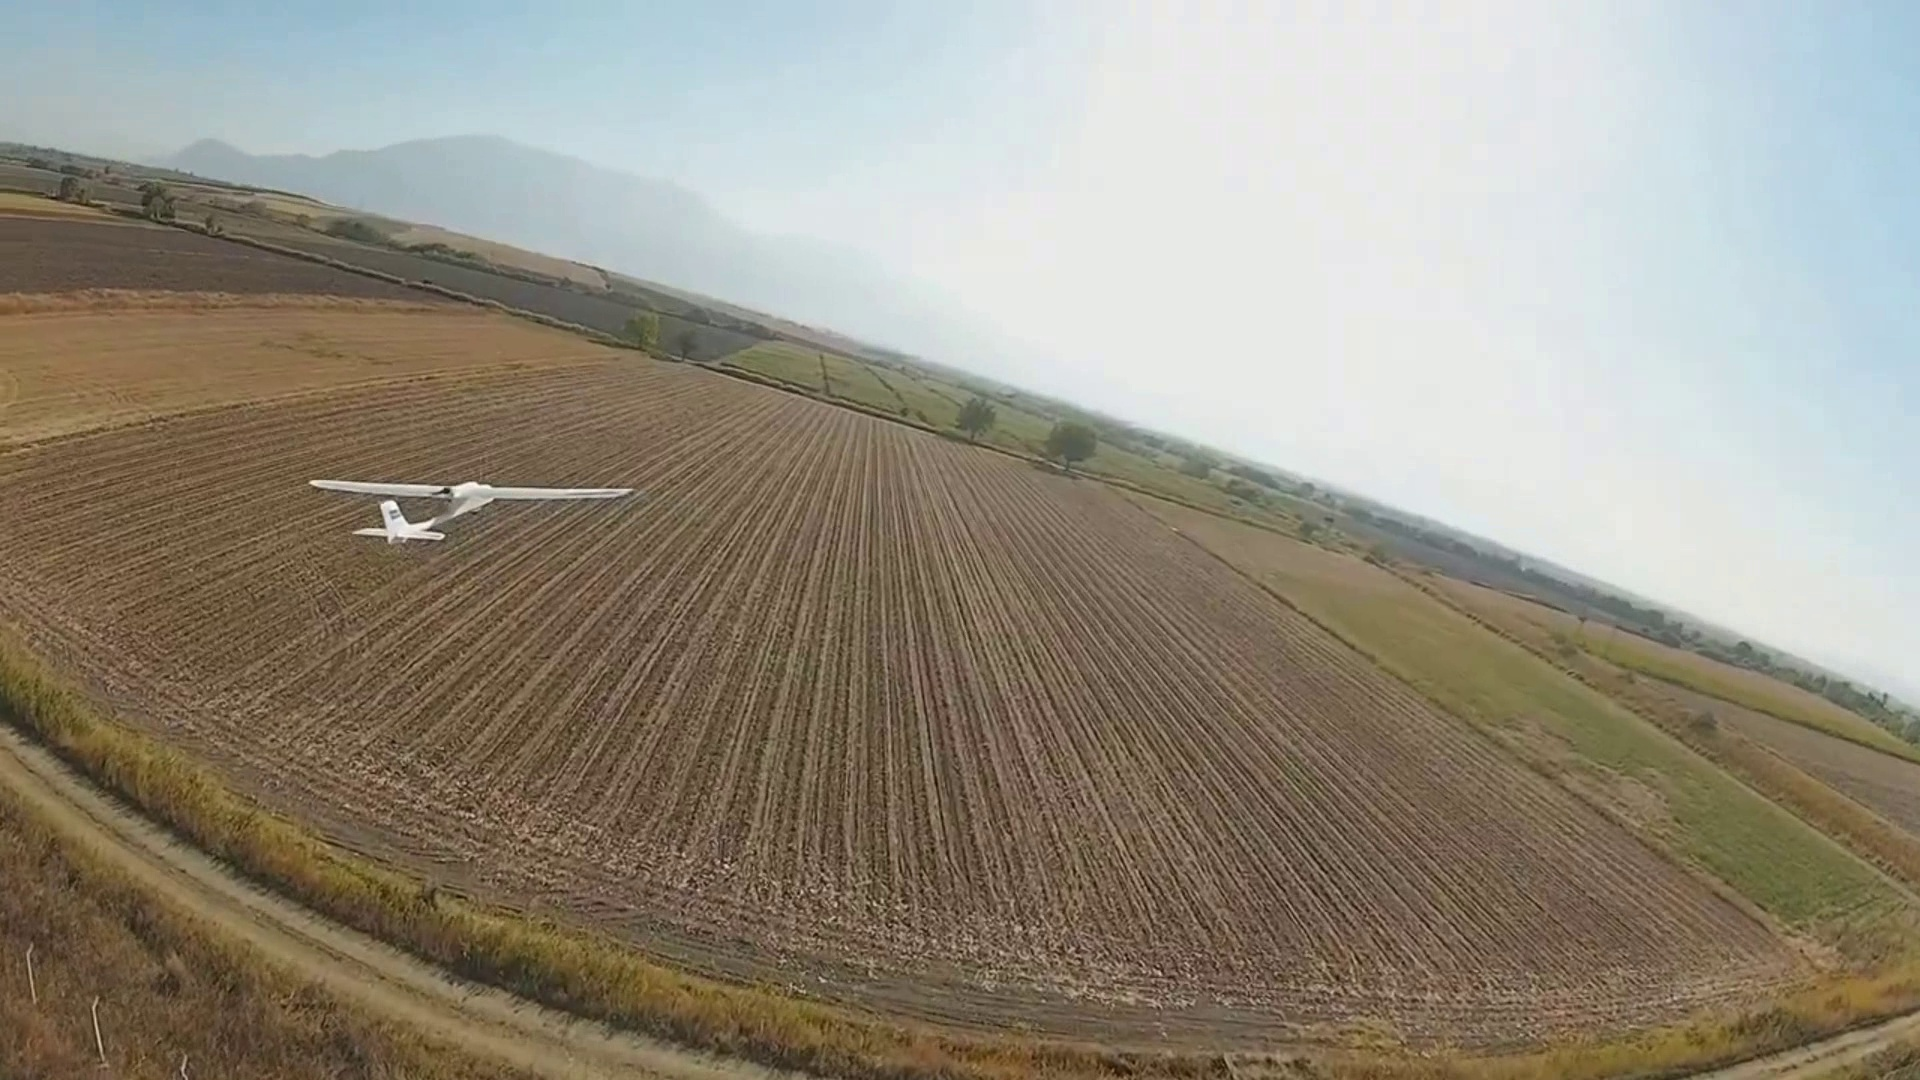airplane: (310, 476, 634, 547), (310, 476, 509, 545)
